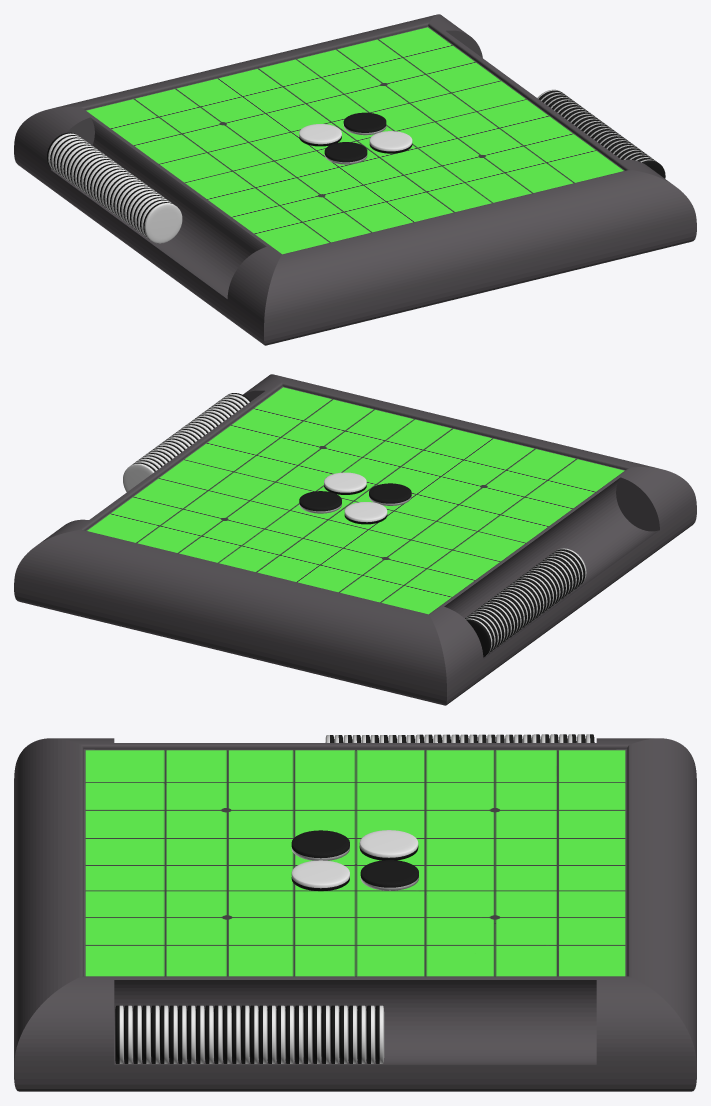
Rendered from Othello.fbx.
The picture shows the model from 3 angles, top to bottom: view 1: azimuth 30°, elevation 25°; view 2: azimuth 150°, elevation 25°; view 3: azimuth 270°, elevation 25°; orthographic projection. The views are drawn at different scales.
Visible parts, largest first — view 1: 板, 台, 5.059, 4, 2, 1, 3; view 2: 板, 台, 3, 2, 4, 1, 5.029; view 3: 板, 台, 3, 4, 2, 1, 5.017, 5.018, 5.019, 5.020, 5.021, 5.022 (+9 smaller).
Part boxes in pixels (x1=…): 板: x1=86, y1=27, x2=623, y2=254; 台: x1=14, y1=14, x2=696, y2=345; 5.059: x1=143, y1=202, x2=182, y2=243; 4: x1=369, y1=131, x2=412, y2=153; 2: x1=343, y1=112, x2=386, y2=135; 1: x1=324, y1=142, x2=367, y2=164; 3: x1=299, y1=124, x2=341, y2=146; 板: x1=87, y1=387, x2=624, y2=614; 台: x1=14, y1=374, x2=696, y2=705; 3: x1=344, y1=502, x2=387, y2=524; 2: x1=299, y1=491, x2=341, y2=513; 4: x1=324, y1=472, x2=366, y2=494; 1: x1=369, y1=483, x2=411, y2=505; 5.029: x1=123, y1=462, x2=155, y2=491; 板: x1=85, y1=750, x2=625, y2=976; 台: x1=14, y1=738, x2=696, y2=1091; 3: x1=359, y1=830, x2=418, y2=860; 4: x1=291, y1=860, x2=349, y2=891; 2: x1=360, y1=860, x2=418, y2=890; 1: x1=291, y1=830, x2=349, y2=860; 5.017: x1=267, y1=1005, x2=276, y2=1063; 5.018: x1=276, y1=1005, x2=285, y2=1063; 5.019: x1=285, y1=1005, x2=294, y2=1063; 5.020: x1=294, y1=1005, x2=303, y2=1063; 5.021: x1=303, y1=1005, x2=312, y2=1063; 5.022: x1=312, y1=1005, x2=321, y2=1063.
Size of the model in its own units: 1029 by 151 by 1003.
4 materials, 1 textured.
